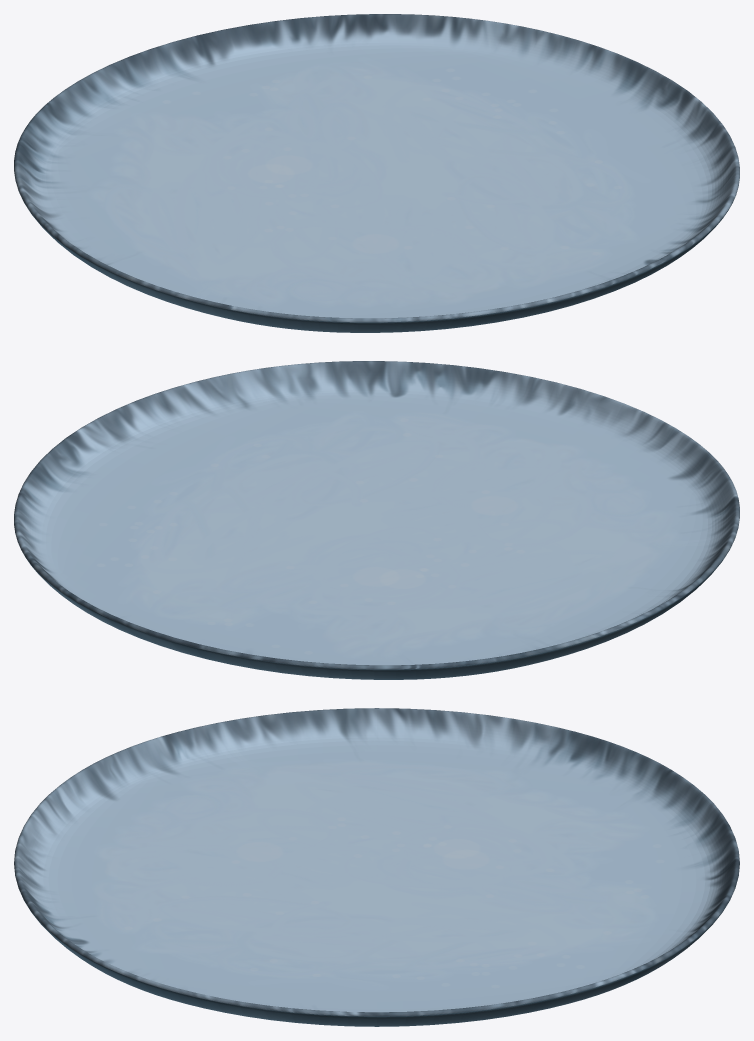
The model's file is Plato2.glb.
3 renders of one model, top to bottom at view 1: azimuth 30°, elevation 25°; view 2: azimuth 150°, elevation 25°; view 3: azimuth 270°, elevation 25°, orthographic.
Parts seen in each view (by area): view 1: Plane; view 2: Plane; view 3: Plane.
Boxes of the visible parts, <box> form: Plane: <box>14,14,739,332</box>; Plane: <box>14,361,739,679</box>; Plane: <box>14,708,739,1026</box>.
Size of the model in its own units: 0.105 by 0.00429 by 0.105.
Materials: 1 (1 with a texture image).
